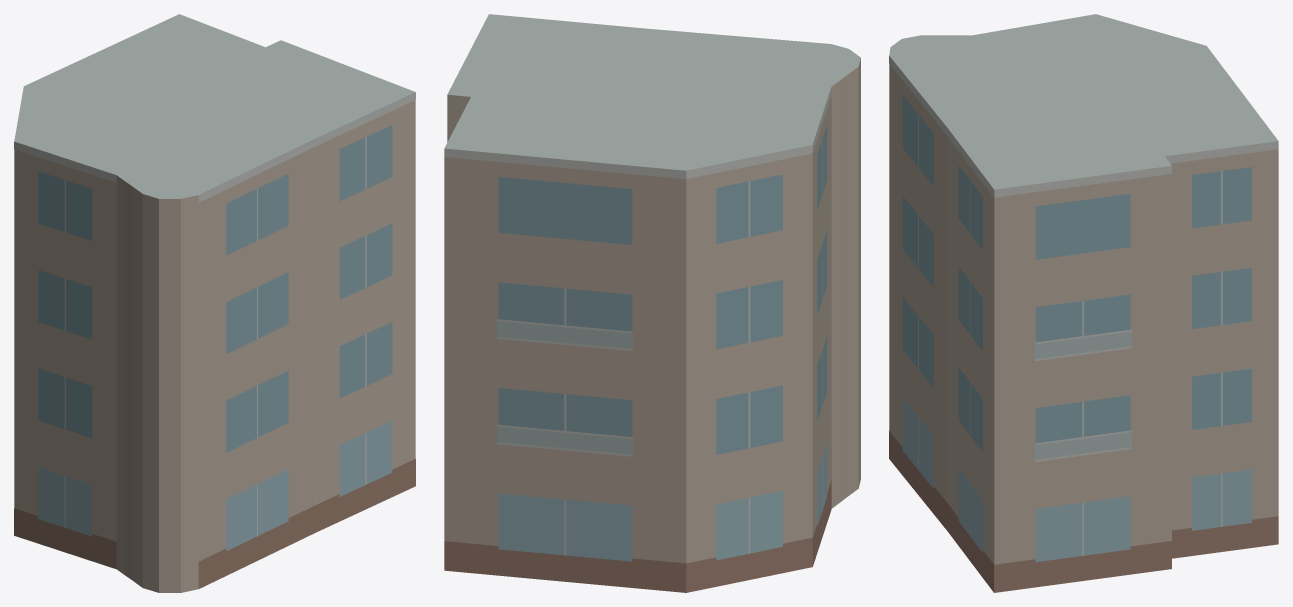
File: survey-upis-32824807.glb
3 renders of one model, left to right at view 1: azimuth 30°, elevation 25°; view 2: azimuth 150°, elevation 25°; view 3: azimuth 270°, elevation 25°, orthographic. The views are drawn at different scales.
Visible parts, largest first — view 1: survey-upis-32824807.tmp; view 2: survey-upis-32824807.tmp; view 3: survey-upis-32824807.tmp.
Part boxes in pixels (x1=…): survey-upis-32824807.tmp: x1=14, y1=14, x2=415, y2=592; survey-upis-32824807.tmp: x1=444, y1=14, x2=860, y2=592; survey-upis-32824807.tmp: x1=889, y1=14, x2=1278, y2=592.
Size of the model in its own units: 11.41 by 12.2 by 10.69.
